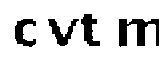c: (11, 16, 38, 50)
m: (114, 13, 160, 55)
t: (79, 11, 103, 50)
v: (45, 15, 78, 46)
